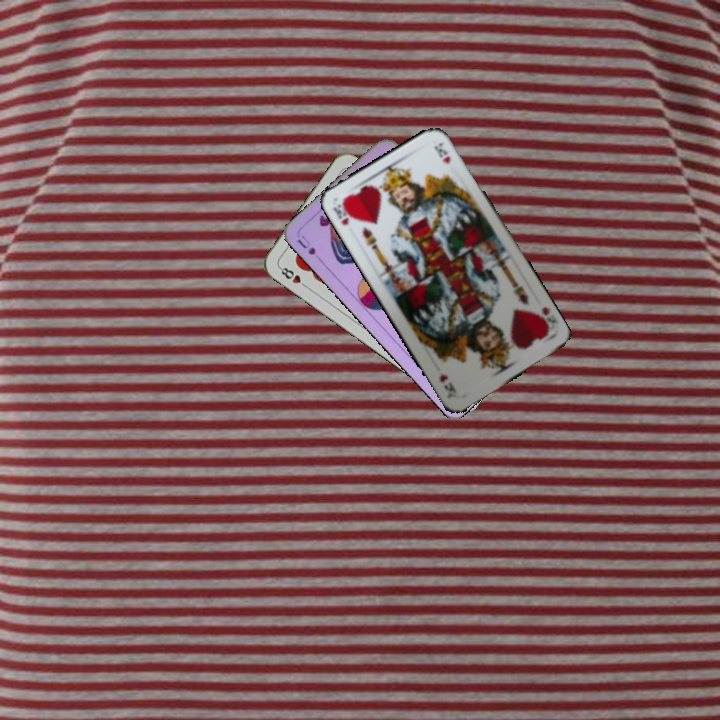H8: (275, 263, 311, 291)
HK: (329, 198, 355, 228), (537, 303, 558, 326)
SU: (293, 231, 319, 257)
